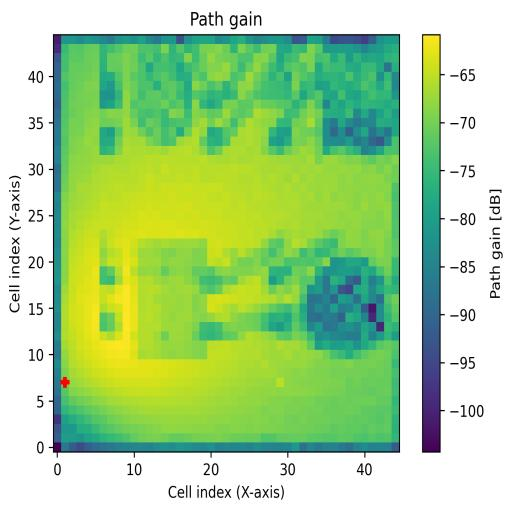Concrete: (314, 53, 392, 155)
Glass: (116, 45, 192, 145)
Metal: (300, 248, 384, 359)
Wood: (139, 238, 207, 360)
